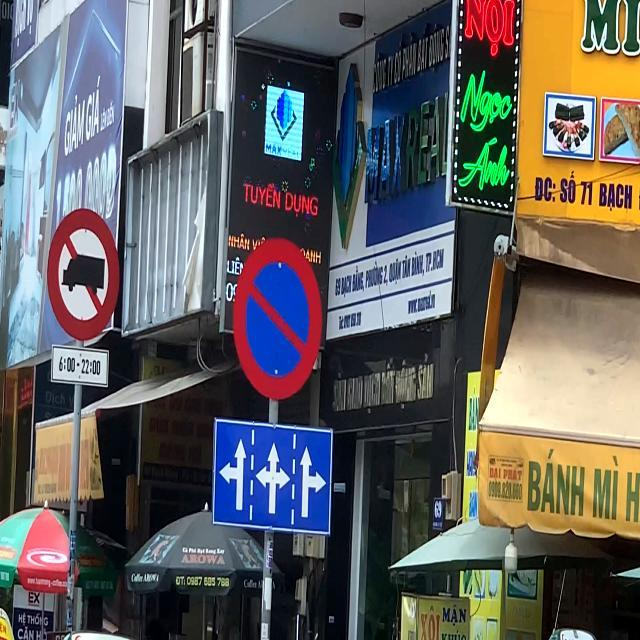P-131a: (234, 236, 322, 398)
